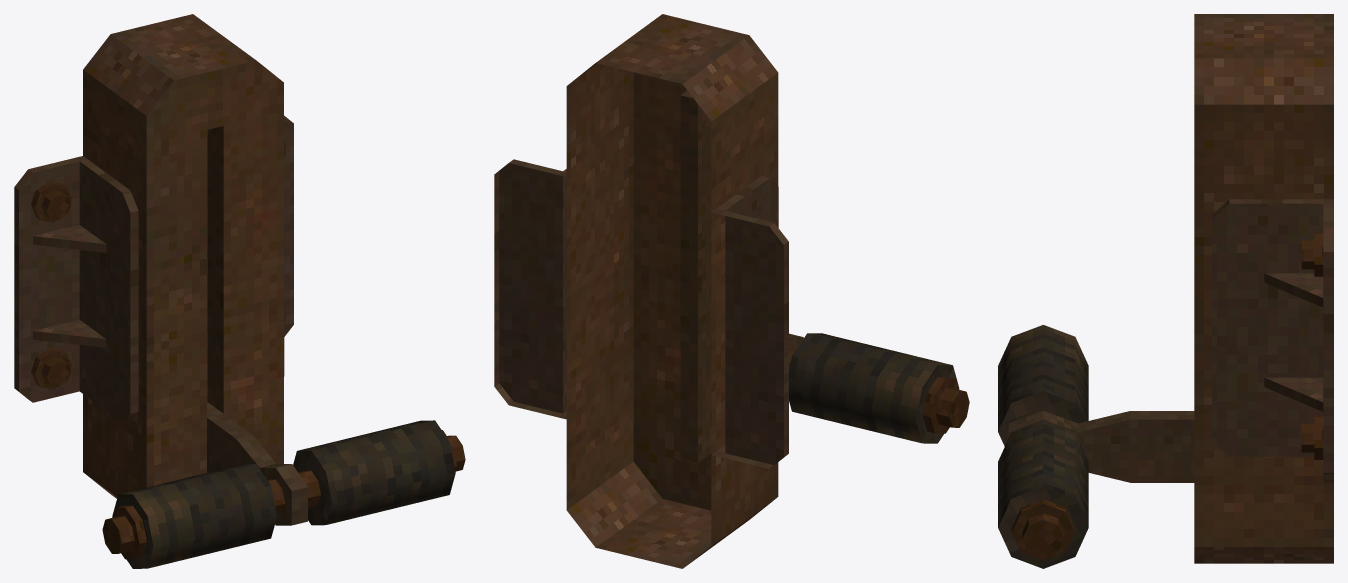
The model's file is lever_etx_6.glb.
The picture shows the model from 3 angles, left to right: view 1: azimuth 30°, elevation 25°; view 2: azimuth 150°, elevation 25°; view 3: azimuth 270°, elevation 25°; orthographic projection. The views are drawn at different scales.
Parts seen in each view (by area): view 1: lever_etx_6, lever_etx_6_child; view 2: lever_etx_6, lever_etx_6_child; view 3: lever_etx_6, lever_etx_6_child.
Part boxes in pixels (x1=…): lever_etx_6: x1=14, y1=14, x2=293, y2=498; lever_etx_6_child: x1=102, y1=402, x2=465, y2=568; lever_etx_6: x1=494, y1=14, x2=788, y2=568; lever_etx_6_child: x1=698, y1=333, x2=969, y2=462; lever_etx_6: x1=1194, y1=14, x2=1333, y2=563; lever_etx_6_child: x1=998, y1=325, x2=1194, y2=568.
Size of the model in its own units: 0.2254 by 0.288 by 0.1734.
Materials: 1 (1 with a texture image).
